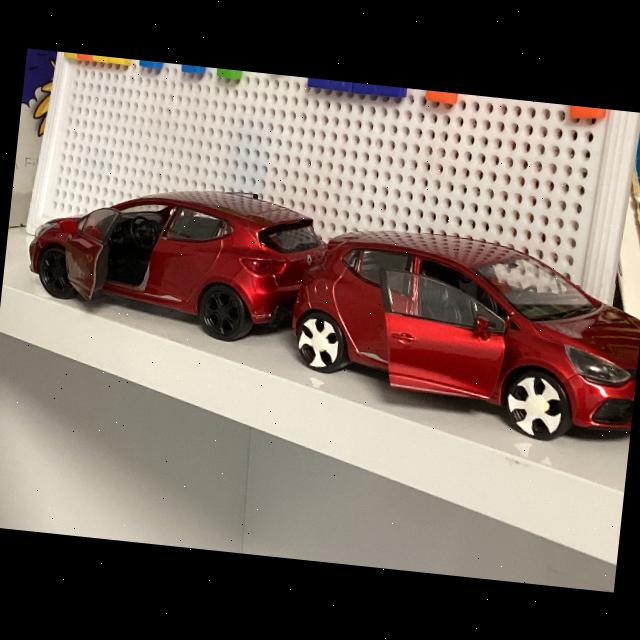Dogru_Jant: (203, 290, 240, 334), (40, 250, 70, 292)
Yanlis_Jant: (505, 372, 566, 438), (296, 315, 342, 369)
